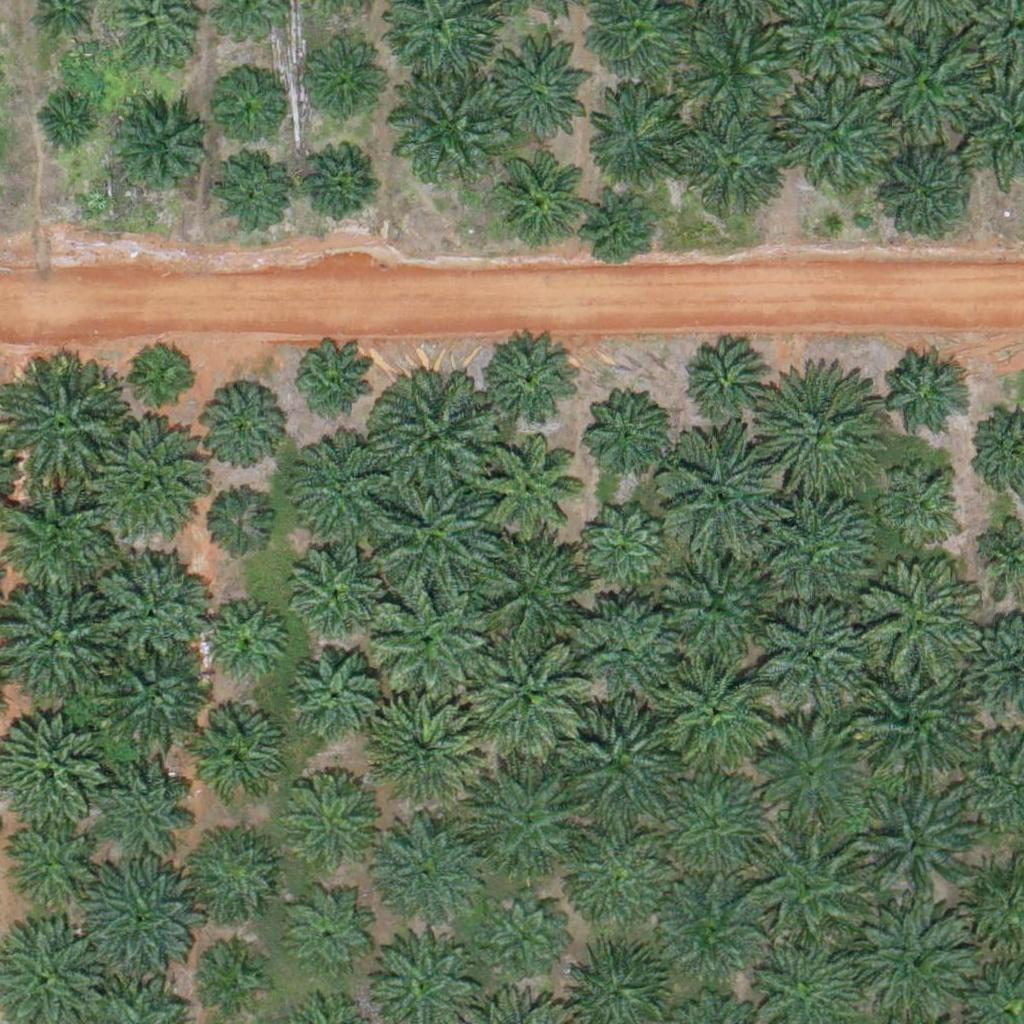Kelapa_Sawit: (850, 558, 975, 684), (846, 666, 971, 792), (756, 375, 881, 501), (743, 833, 868, 959), (663, 433, 788, 559), (471, 634, 596, 760), (370, 374, 495, 500), (374, 468, 499, 593), (364, 696, 477, 810), (100, 424, 213, 538), (760, 497, 873, 610), (659, 774, 772, 887), (662, 658, 775, 771), (560, 705, 673, 818), (474, 767, 587, 880), (375, 581, 488, 694), (289, 429, 402, 542), (82, 859, 195, 972), (3, 487, 116, 600), (677, 113, 790, 226), (679, 10, 792, 123), (391, 66, 504, 179), (859, 795, 971, 908), (763, 718, 875, 831), (656, 552, 768, 665), (559, 821, 671, 934), (476, 534, 588, 647), (366, 819, 478, 932), (100, 639, 212, 752), (95, 552, 207, 665), (870, 35, 982, 148), (779, 81, 891, 194), (483, 42, 595, 155), (761, 606, 861, 707), (662, 884, 762, 985), (576, 600, 676, 701), (483, 443, 583, 544), (481, 332, 581, 433), (98, 746, 198, 847), (884, 136, 984, 237), (587, 84, 687, 185), (107, 97, 207, 198), (187, 708, 287, 808), (197, 386, 285, 475), (288, 544, 376, 632), (198, 598, 286, 686), (491, 154, 579, 242), (289, 340, 376, 428), (291, 774, 378, 862), (290, 648, 377, 736), (192, 829, 279, 917), (296, 35, 383, 123), (199, 491, 274, 567), (881, 362, 956, 438), (880, 470, 955, 546), (688, 349, 763, 425), (589, 397, 664, 473), (587, 514, 662, 590), (294, 900, 369, 976), (304, 151, 379, 227), (215, 155, 290, 231), (488, 890, 563, 965), (212, 78, 275, 141), (36, 96, 99, 159), (133, 343, 196, 406), (201, 948, 264, 1011), (586, 195, 649, 258)
